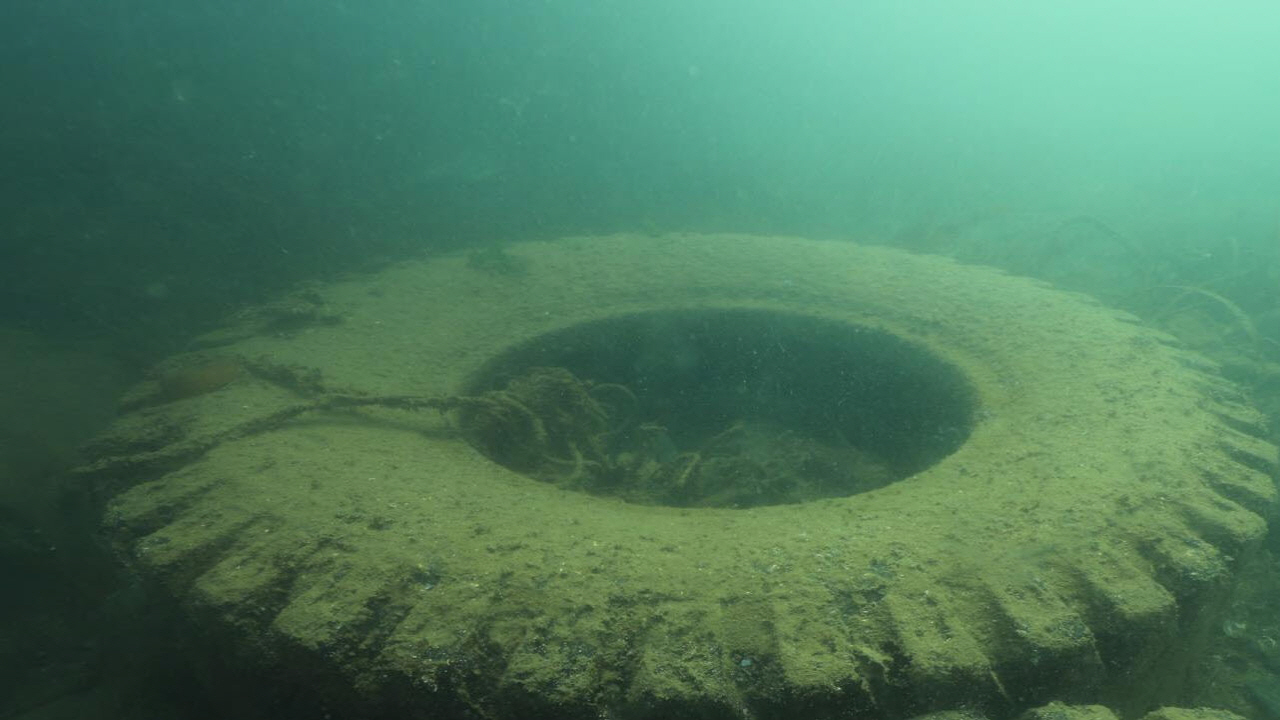bundle of ropes: (66, 336, 553, 511)
tire: (83, 228, 1280, 720)
